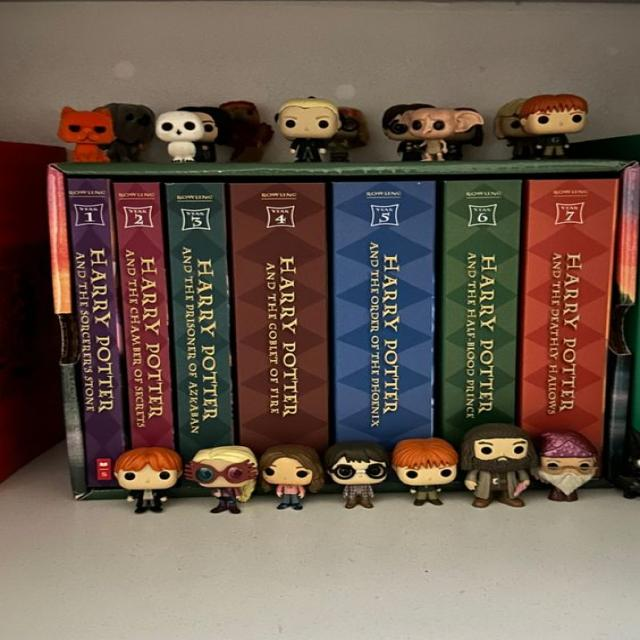book: (334, 182, 435, 439), (231, 182, 329, 446), (521, 179, 618, 431), (442, 179, 521, 425), (65, 179, 124, 489), (167, 183, 233, 448), (115, 183, 174, 449)
